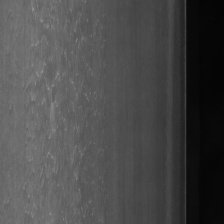silk_spot: (12, 105, 95, 201), (20, 51, 91, 121), (28, 0, 84, 60)
